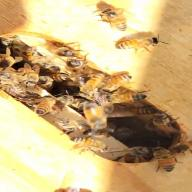Bee: (142, 143, 186, 174), (68, 134, 113, 161), (90, 8, 138, 33), (114, 32, 166, 54), (9, 62, 63, 80), (31, 92, 62, 121), (98, 69, 138, 87), (106, 89, 146, 106)
